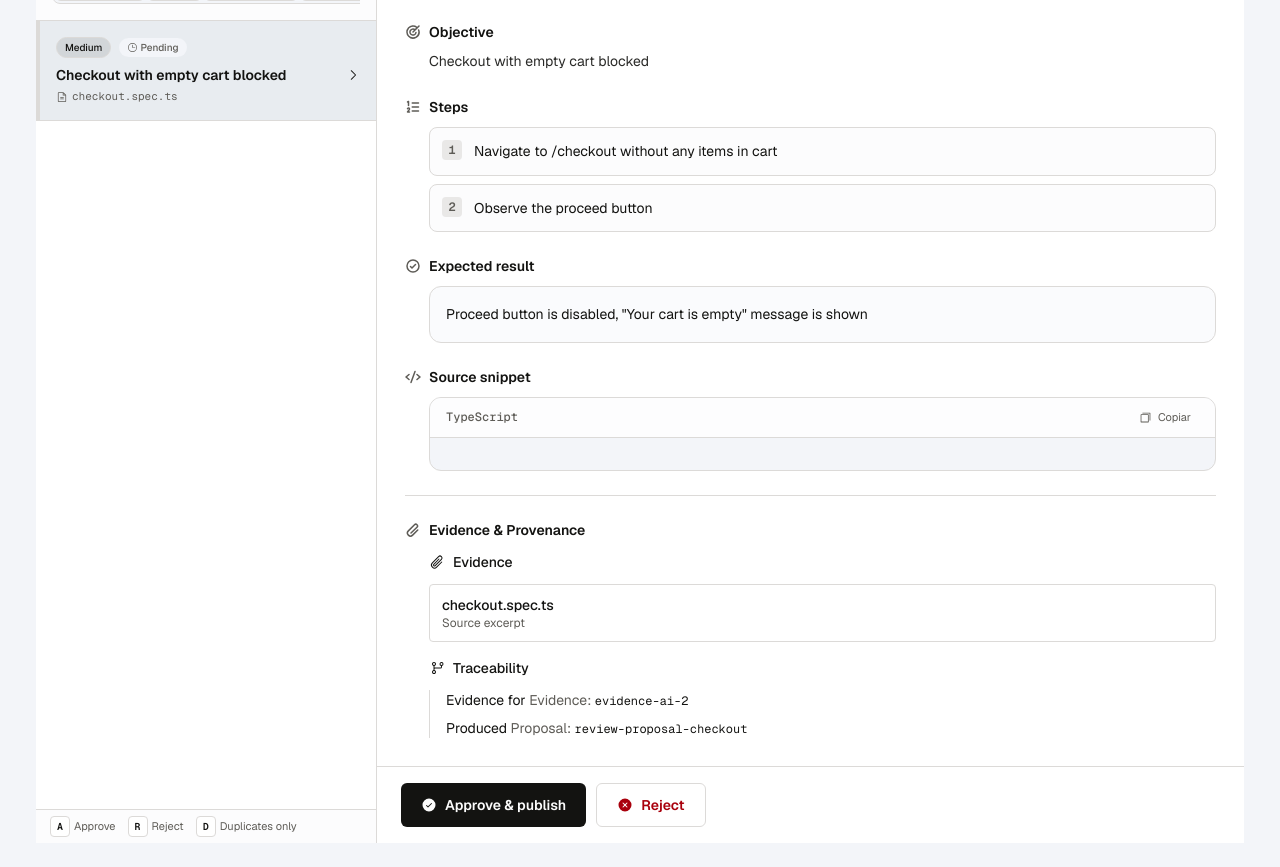
ReviewInboxPage › approval conflicts › names the failed proposal and links to the case that already uses its title
(page scrolled)
Click the button "Approve & publish" at (494, 805), box 401,783 -> 586,827
(page scrolled)
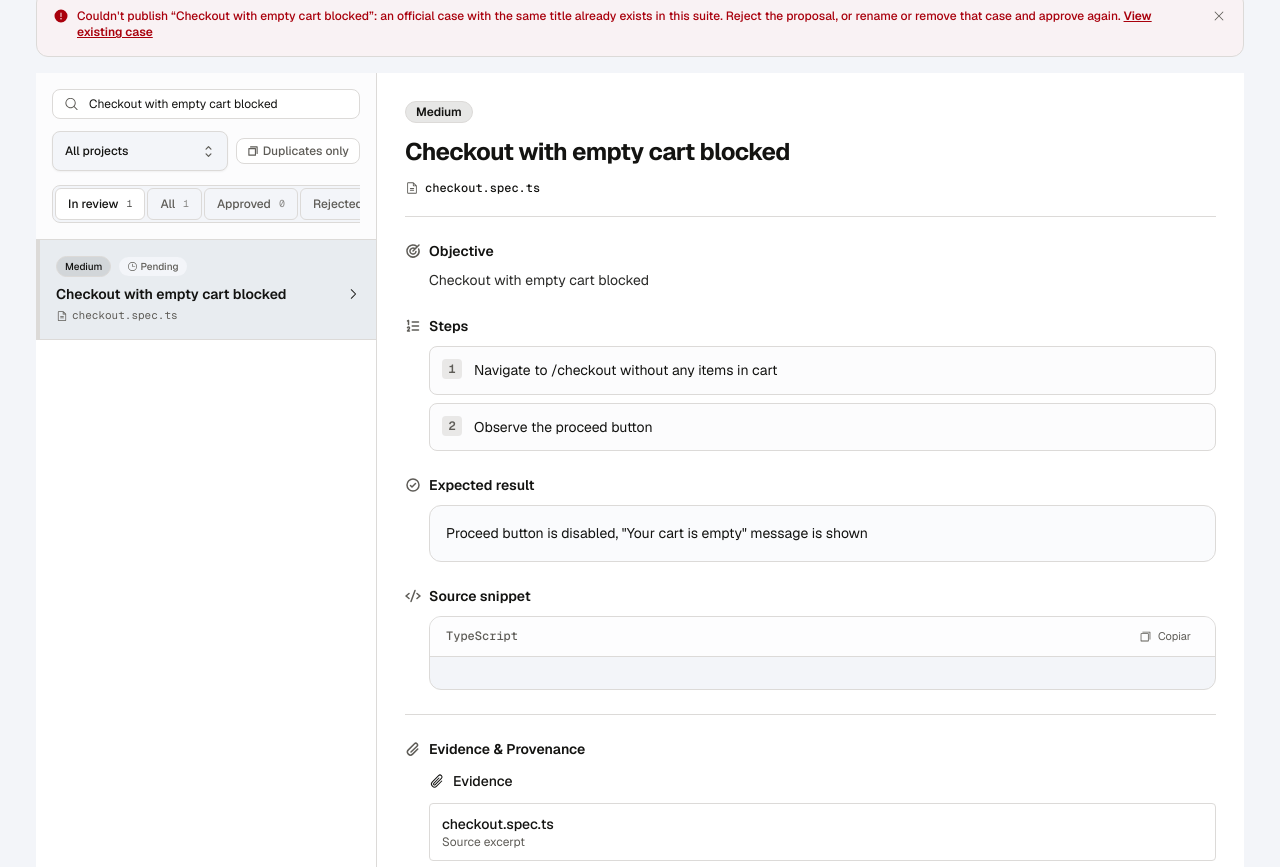
Result: the message shows "an official case with the same title already exists" at 77,8 -> 1121,24
Result: the message shows "reject the proposal, or rename or remove that case" at 77,8 -> 1121,24
